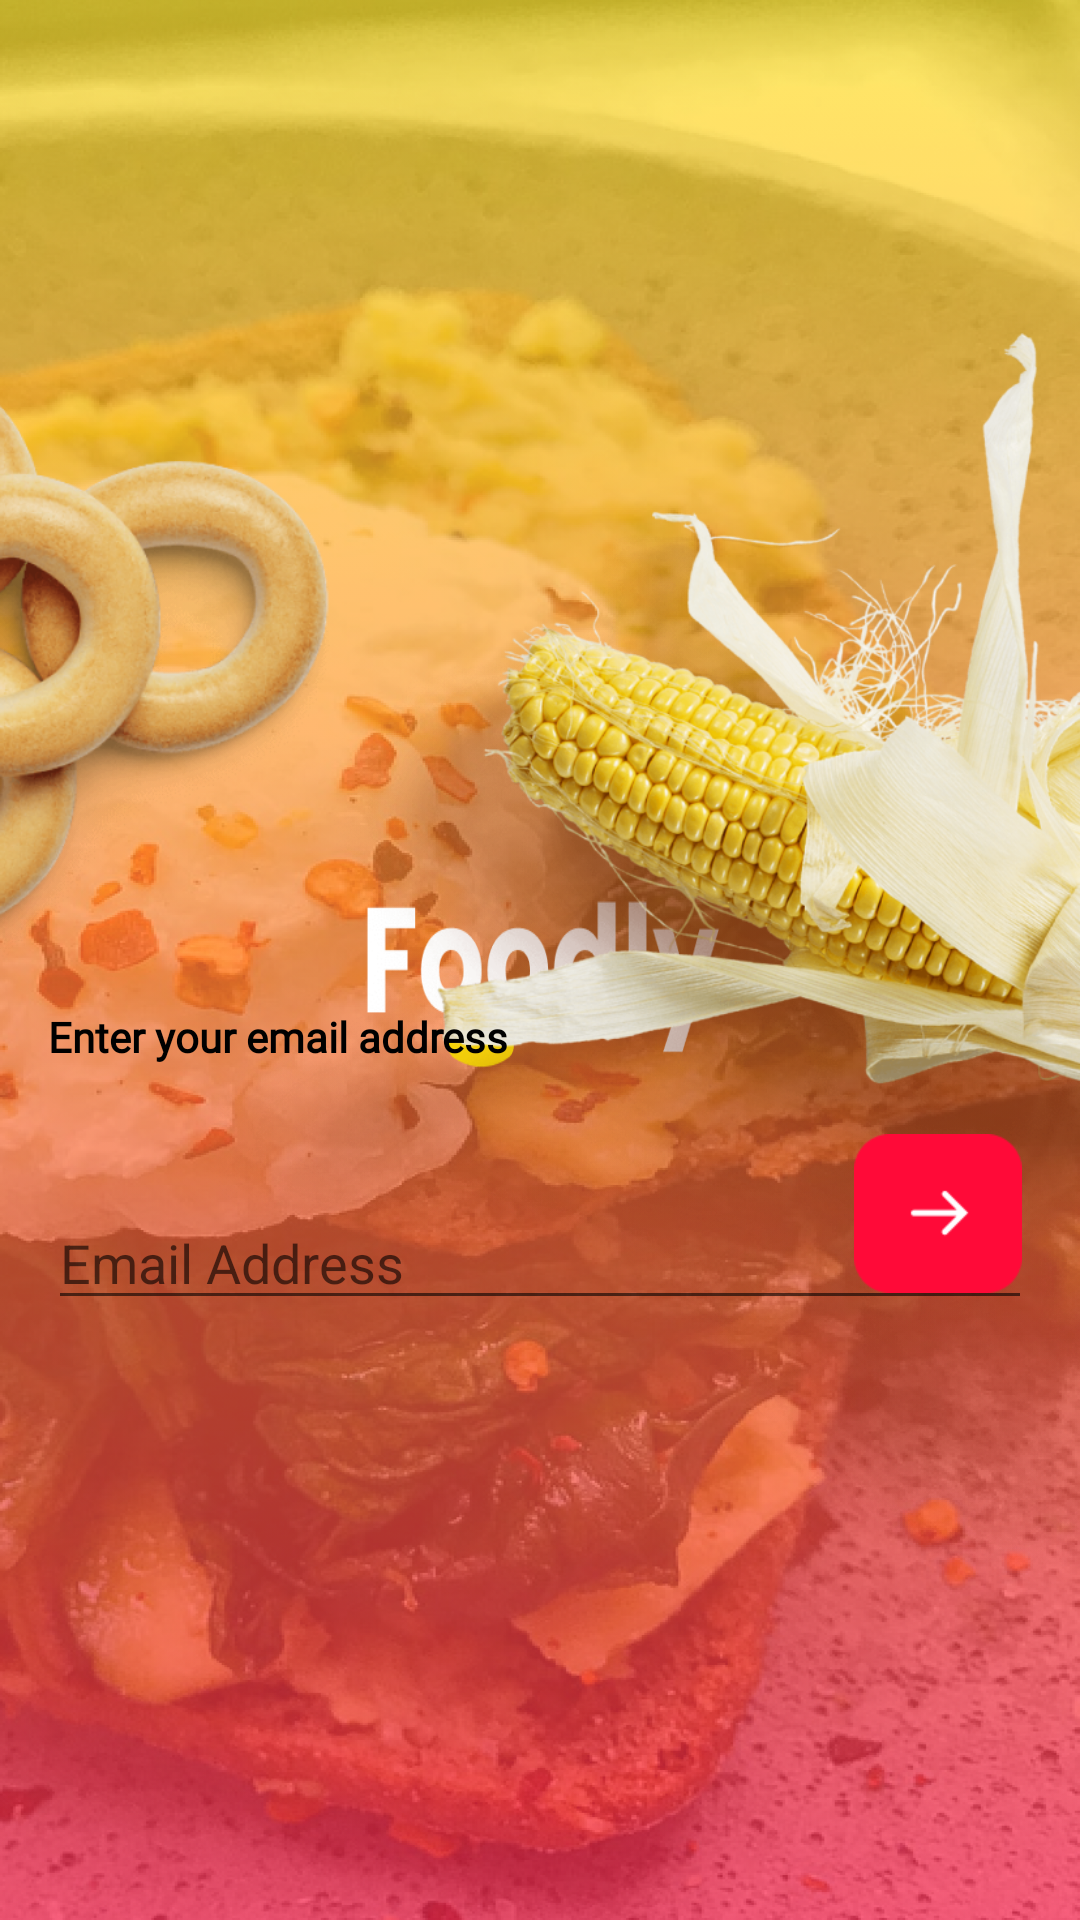

Named icons in this screenshot (1080*1920) and their centers, [x,y]:
custom next: [943,1213]
